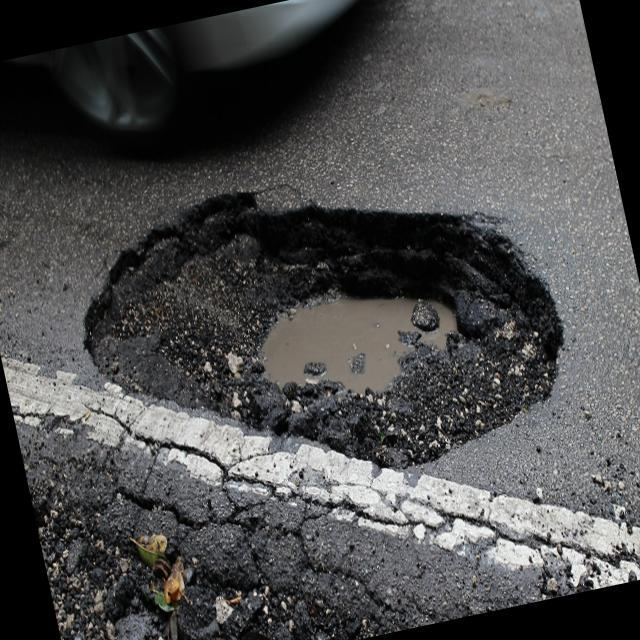Pothole: (54, 129, 584, 512), (39, 486, 311, 640)
